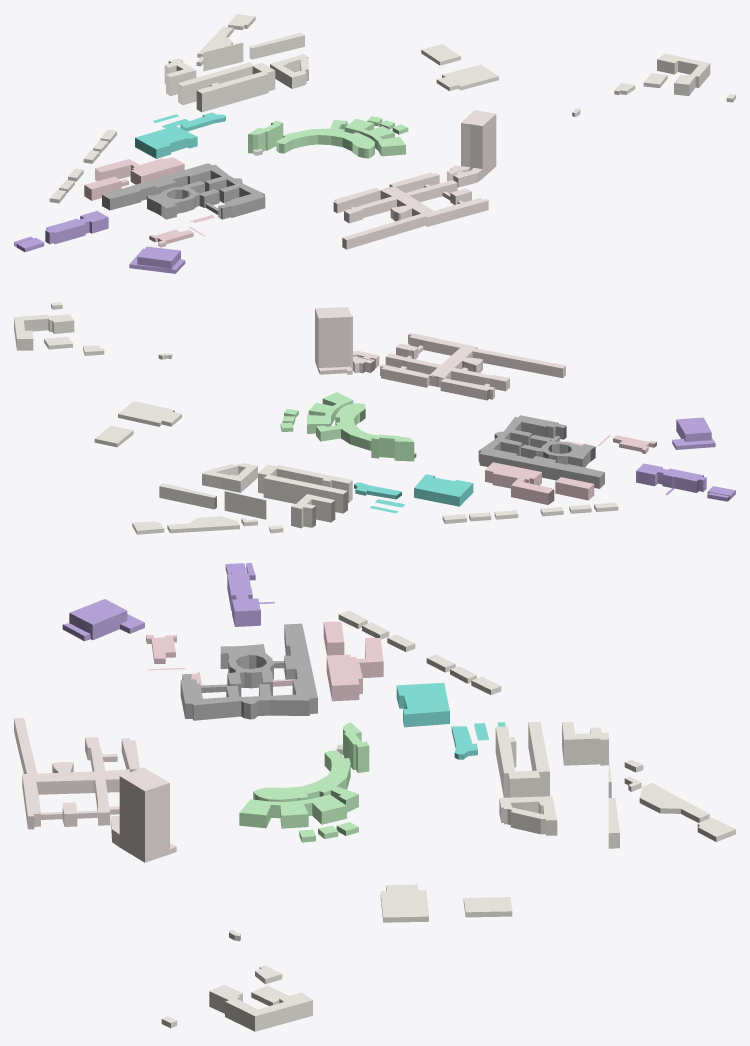
File: XMUT_REALscale0.gltf
3 views of the same model, one above another, from view 1: azimuth 30°, elevation 25°; view 2: azimuth 150°, elevation 25°; view 3: azimuth 270°, elevation 25° (orthographic). The views are drawn at different scales.
Size of the model in its own units: 1029 by 74.05 by 678.
